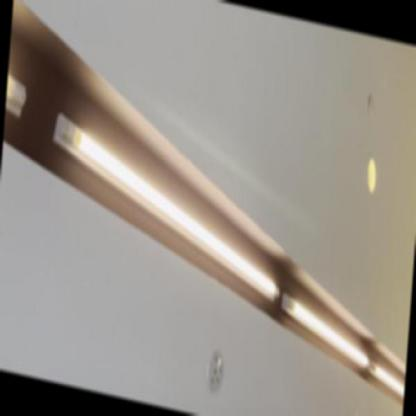light_on: (40, 102, 289, 323), (276, 259, 380, 386), (4, 62, 36, 132), (370, 349, 406, 411)
